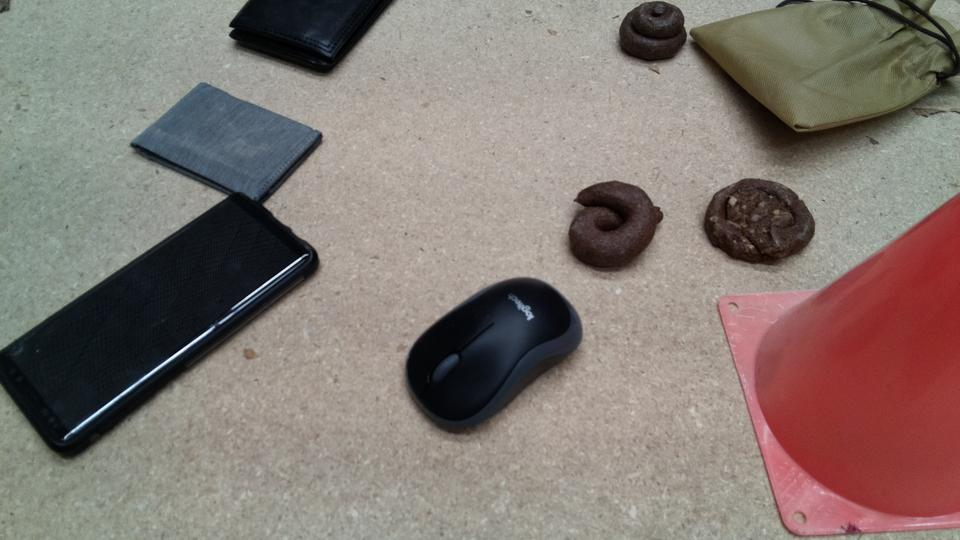poop: (701, 175, 817, 269), (563, 176, 665, 275), (617, 1, 689, 64)
